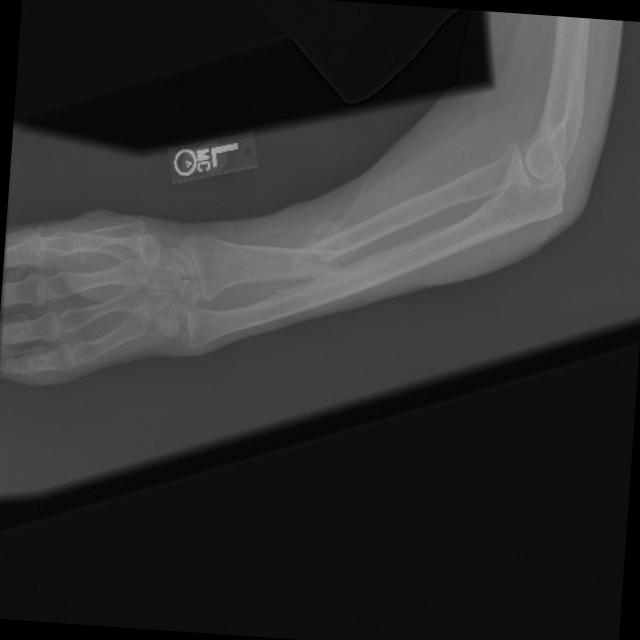forearm fracture: (264, 210, 368, 302)
